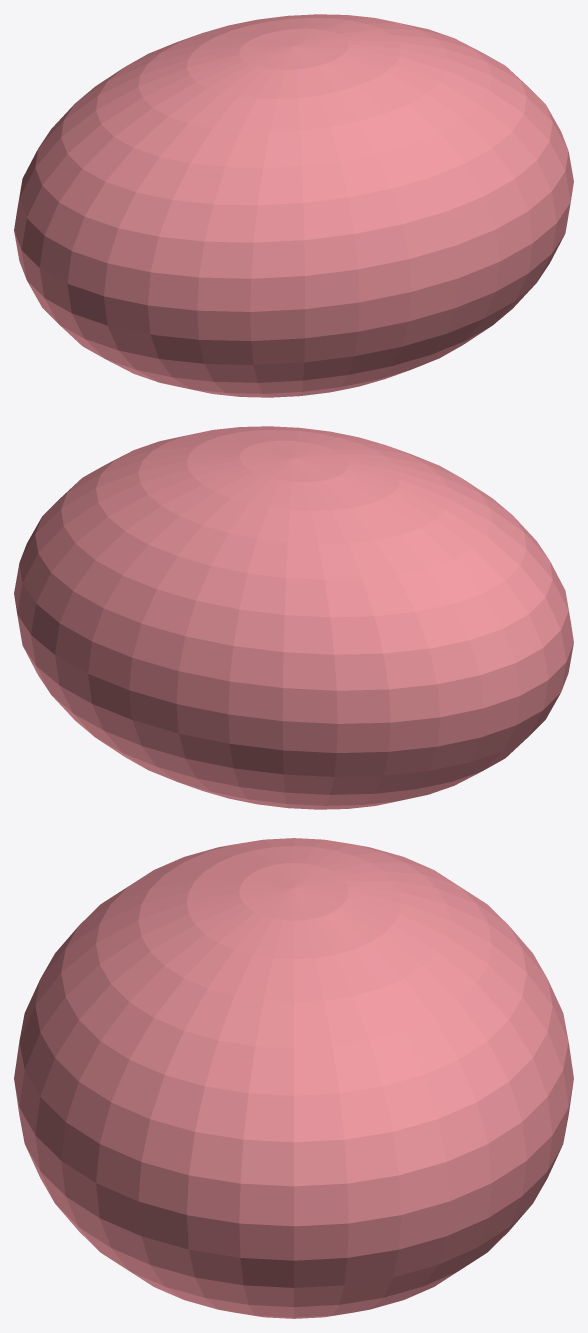
Rendered from water_molecule.glb.
3 views of the same model, one above another, from view 1: azimuth 30°, elevation 25°; view 2: azimuth 150°, elevation 25°; view 3: azimuth 270°, elevation 25° (orthographic). The views are drawn at different scales.
Parts seen in each view (by area): view 1: Sphere; view 2: Sphere; view 3: Sphere.
Boxes of the visible parts, x1,y1,x2,y2 form: Sphere: [14, 14, 573, 397]; Sphere: [14, 426, 573, 809]; Sphere: [14, 838, 573, 1318].
Bounding box in the file's own units: 0.1 × 0.06 × 0.08.
